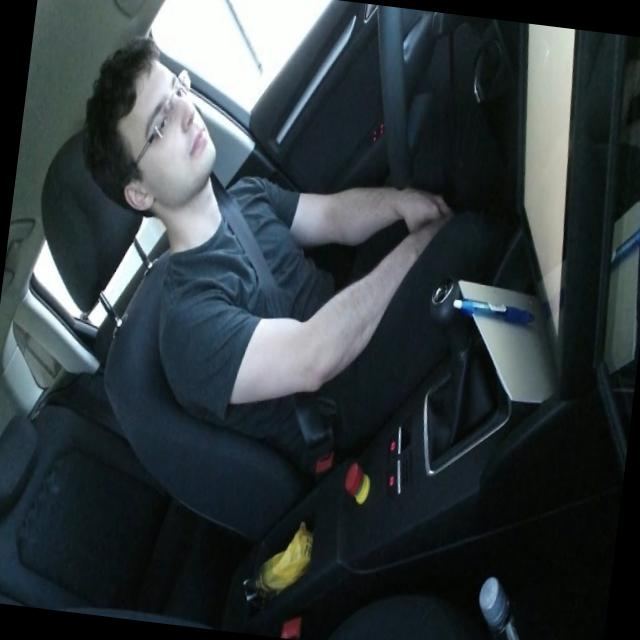pen: (450, 294, 535, 326)
